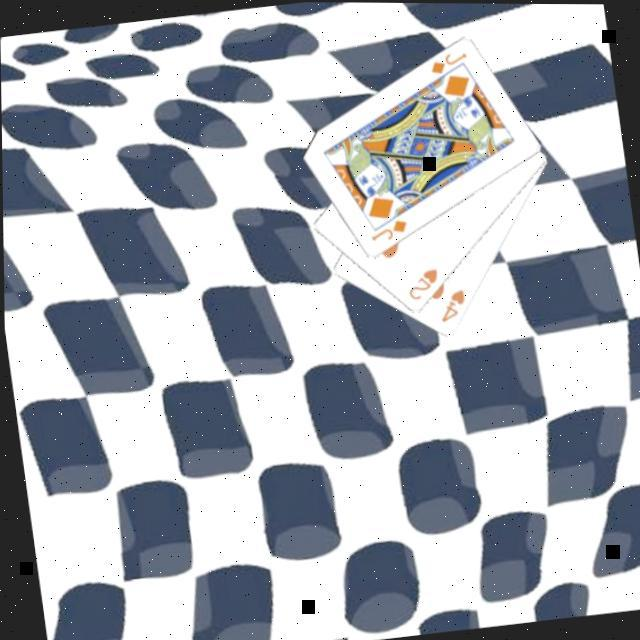2H: (401, 263, 443, 302)
4H: (433, 284, 469, 324)
JD: (425, 45, 472, 76), (365, 214, 411, 244)
